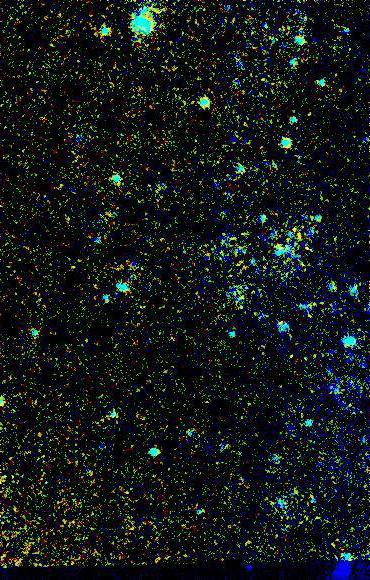star: (266, 227, 296, 257)
